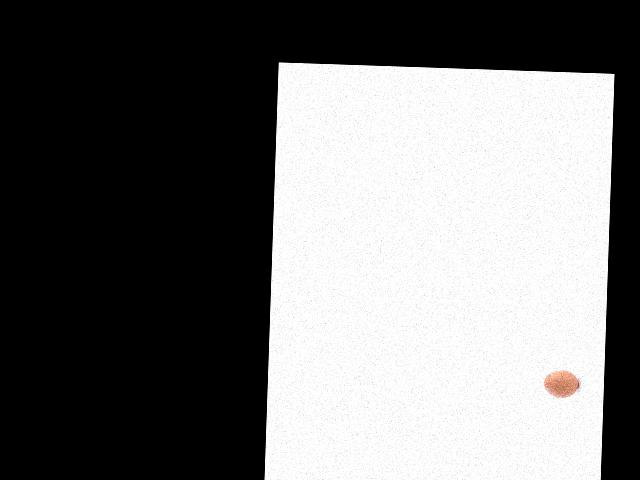egg: (543, 370, 578, 399)
